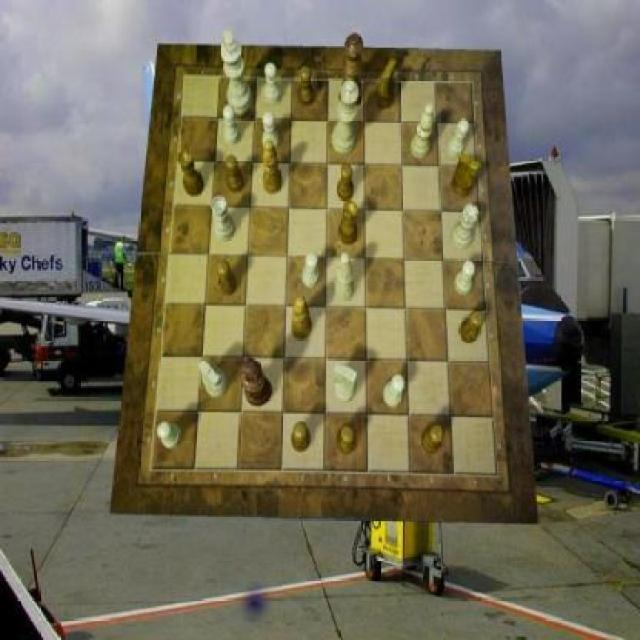bishop: (263, 139, 283, 193), (290, 296, 312, 340)
black-bishop: (240, 359, 274, 406)
black-king: (452, 152, 480, 198), (376, 60, 396, 111)
black-knight: (460, 310, 485, 344), (224, 155, 243, 193), (217, 260, 237, 296), (298, 68, 316, 108), (422, 423, 444, 454), (337, 165, 354, 202), (292, 422, 312, 452), (337, 426, 357, 456)
black-pawn: (340, 32, 365, 110)
black-queen: (177, 149, 204, 197), (338, 198, 358, 244)
black-rook: (410, 103, 434, 158), (334, 252, 354, 302)
white-bishop: (220, 29, 253, 115)
white-king: (200, 360, 229, 398), (334, 363, 357, 403)
white-knight: (448, 118, 470, 158), (264, 63, 282, 105), (383, 374, 405, 408), (454, 260, 474, 296), (263, 111, 280, 152), (224, 105, 240, 146), (157, 422, 181, 449), (302, 252, 319, 288)
white-pawn: (331, 78, 358, 154)
white-queen: (451, 205, 478, 250), (212, 195, 236, 241)
